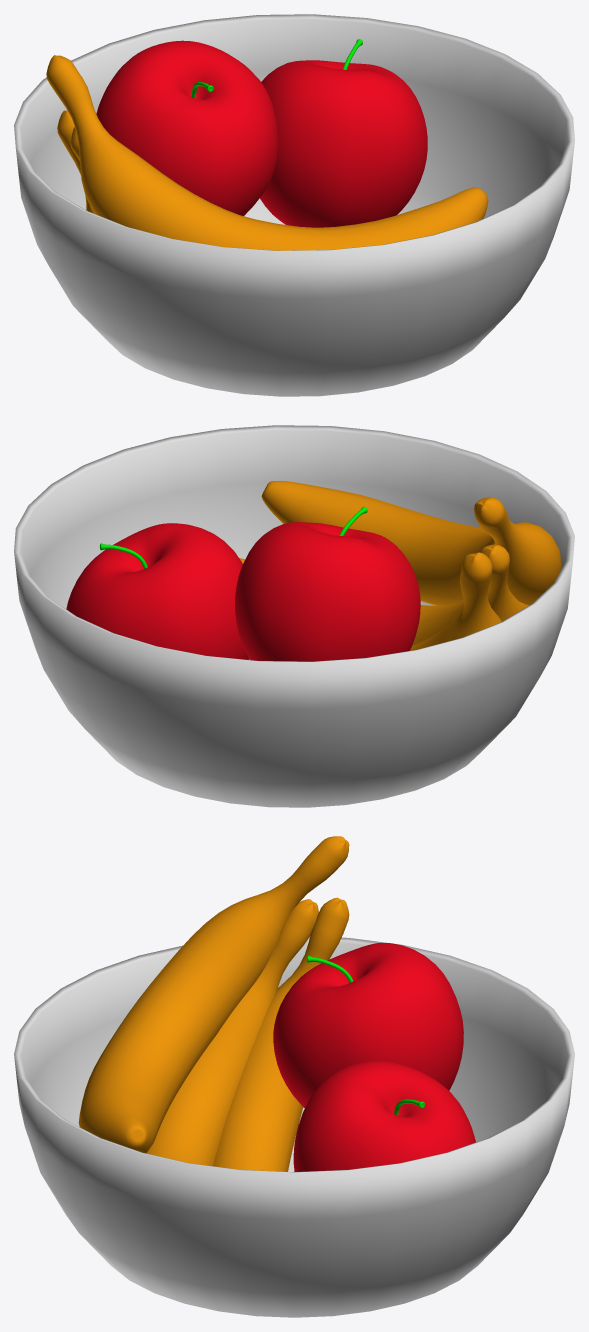
Rendered from bowlNew.fbx.
3 views of the same model, one above another, from view 1: azimuth 30°, elevation 25°; view 2: azimuth 150°, elevation 25°; view 3: azimuth 270°, elevation 25° (orthographic).
Parts seen in each view (by area): view 1: Sphere, tallo, tallo.001, banana, banana.001; view 2: Sphere, tallo.001, tallo, banana, banana.001, banana.002; view 3: Sphere, banana, tallo.001, tallo, banana.002, banana.001.
Boxes of the visible parts, x1,y1,x2,y2 form: Sphere: (14,14,574,396); tallo: (260,39,427,227); tallo.001: (96,40,278,215); banana: (46,55,488,250); banana.001: (57,110,93,213); Sphere: (14,425,574,807); tallo.001: (235,506,420,661); tallo: (66,523,248,659); banana: (261,481,561,605); banana.001: (248,552,501,659); banana.002: (239,544,528,645); Sphere: (14,937,574,1317); banana: (78,836,349,1153); tallo.001: (273,943,463,1107); tallo: (293,1060,475,1171); banana.002: (146,899,318,1166); banana.001: (213,897,349,1171).
Size of the model in its own units: 20 by 12.35 by 20.
